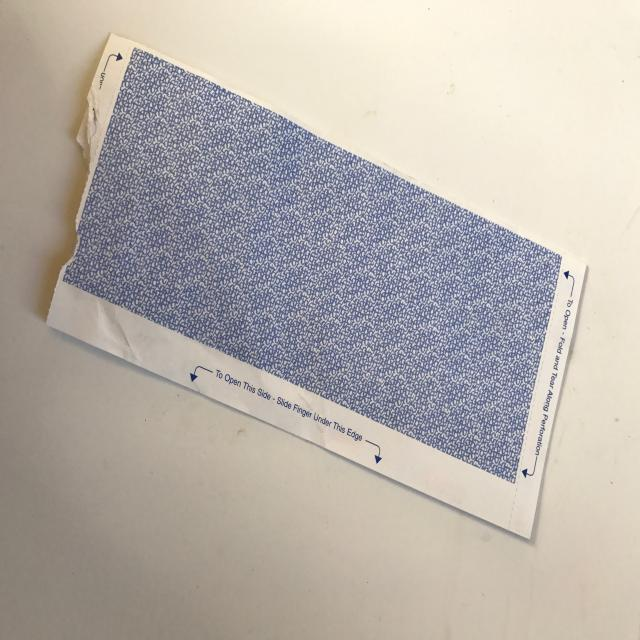paper: (41, 32, 588, 544)
